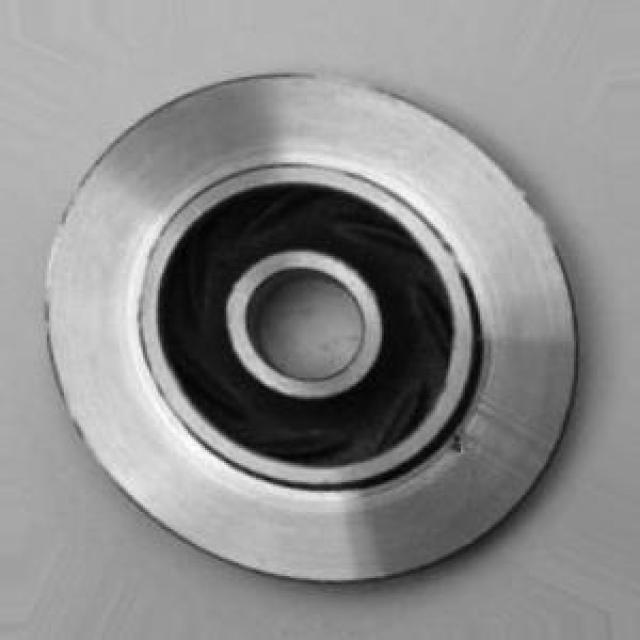Defect: (446, 434, 470, 456)
